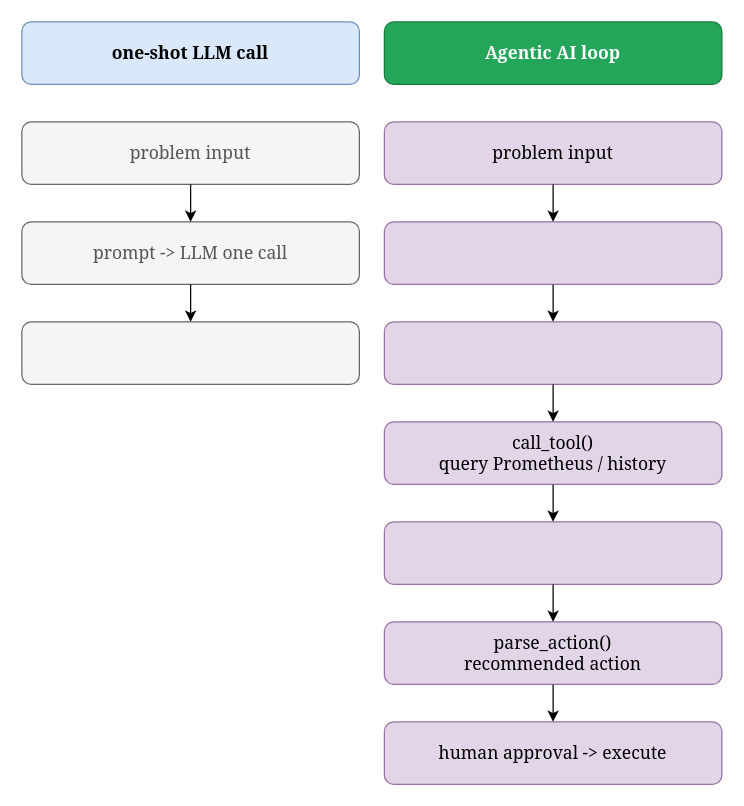
The diagram is 744 pixels wide and 806 high, and some of its shapes have lost their labels. Here are the shapes that lost their labels. From the top down, the box of each, then its label:
(383, 221, 722, 284): detect_anomaly() build_context()
(21, 321, 359, 384): single response (cannot retrieve more data)
(383, 321, 722, 384): LLM analysis (needs more data?)
(383, 521, 722, 584): LLM follow-up analysis root-cause hypothesis
